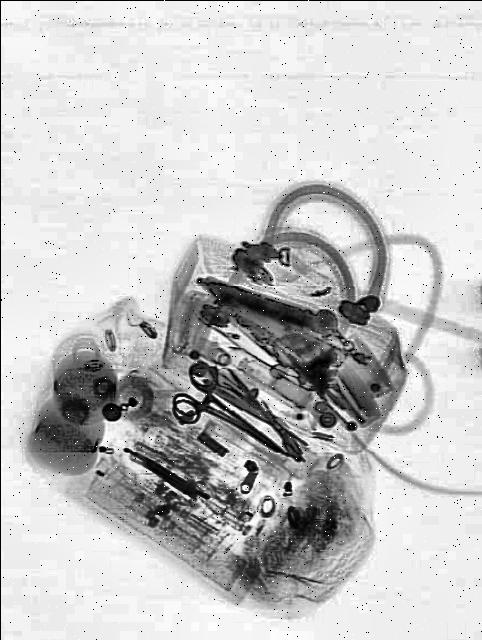Scissors: (166, 351, 298, 479)
